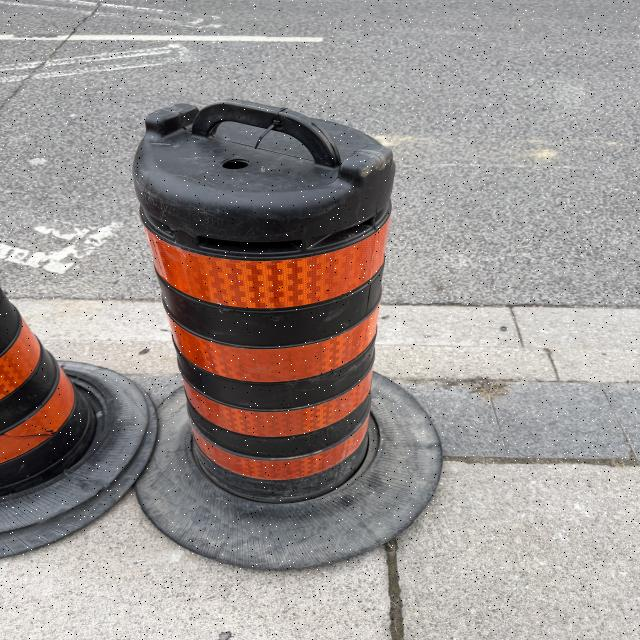Teraffic Barrel: (134, 101, 441, 568), (0, 291, 156, 557)
